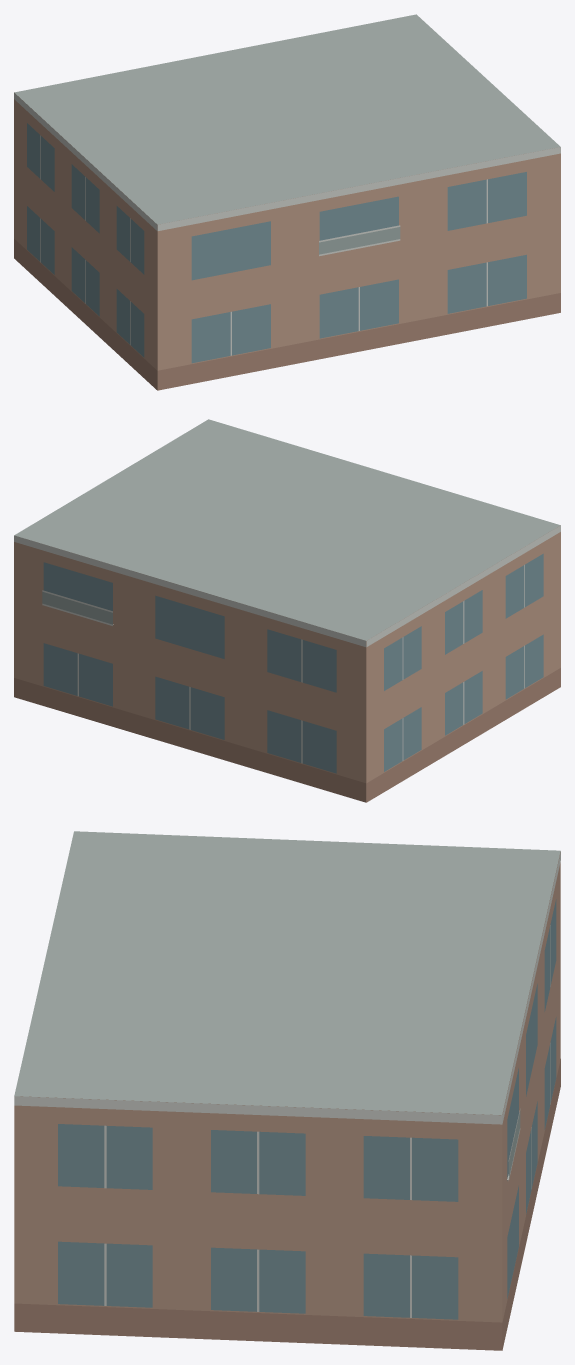
Rendered from survey-upis-32489070.glb.
3 renders of one model, top to bottom at view 1: azimuth 30°, elevation 25°; view 2: azimuth 150°, elevation 25°; view 3: azimuth 270°, elevation 25°, orthographic. The views are drawn at different scales.
Parts seen in each view (by area): view 1: survey-upis-32489070.tmp; view 2: survey-upis-32489070.tmp; view 3: survey-upis-32489070.tmp.
Boxes of the visible parts, bbox=[...] form: survey-upis-32489070.tmp: bbox=[14, 14, 560, 390]; survey-upis-32489070.tmp: bbox=[14, 419, 560, 802]; survey-upis-32489070.tmp: bbox=[14, 831, 560, 1350].
Bounding box in the file's own units: 15.78 × 6.1 × 12.84.
